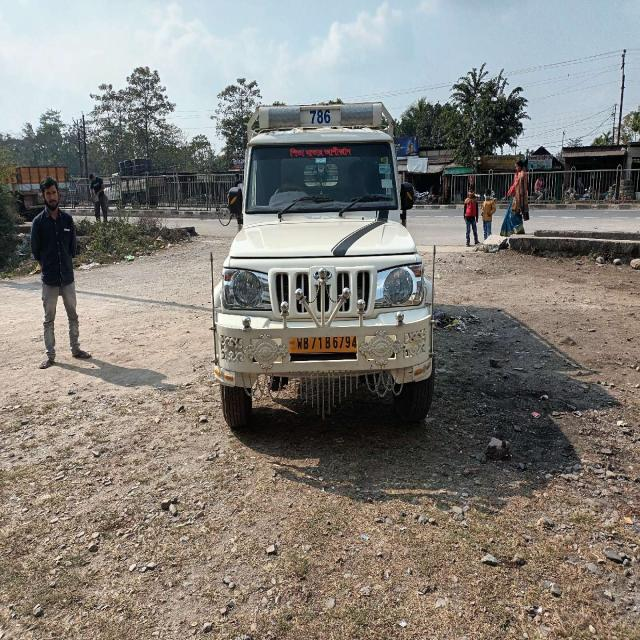light_vehicle: (210, 139, 440, 395)
